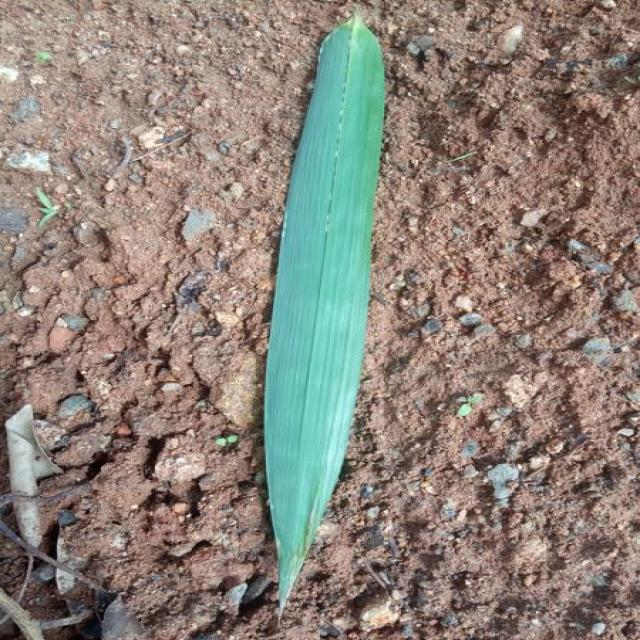Bamboo: (263, 14, 385, 613)
